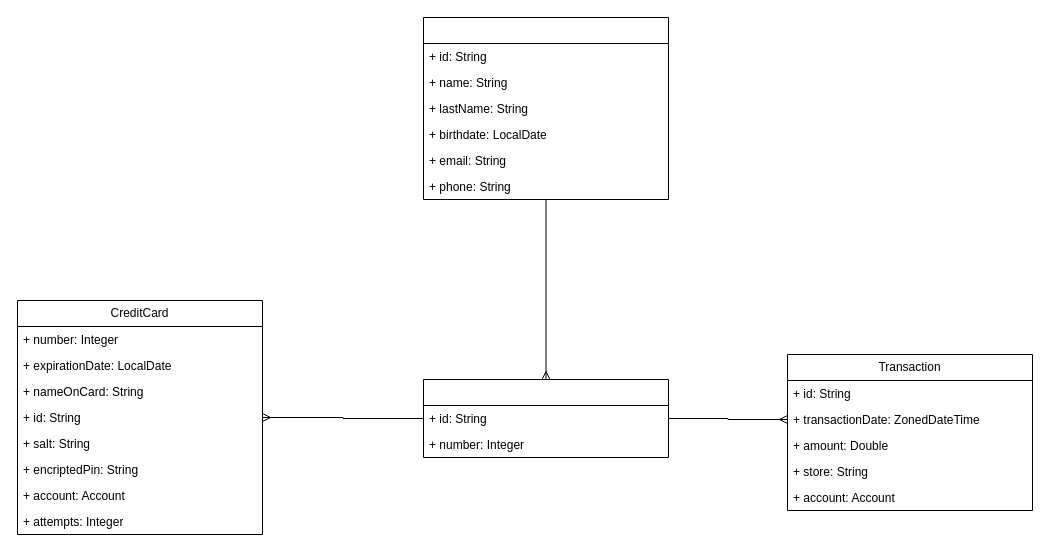
This 1050x555 diagram has some shape labels left out. The shapes that lost their labels are listed below. From the top down, each one's box as (x1, y1, x2, y2) in pixels, then its label:
(422, 16, 668, 200): User
(422, 378, 668, 458): Account
